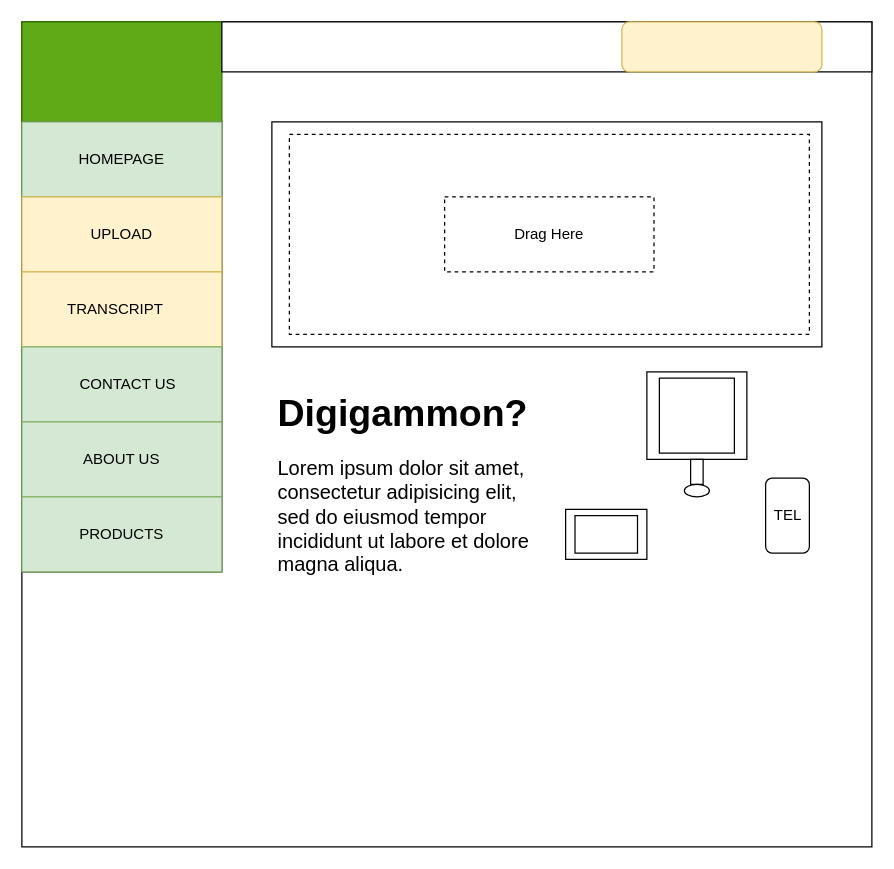
Some shapes in this 894 by 869 pixel diagram are drawn without their labels. The box of each missing label's shape, as (x1, y1, x2, y2) in pixels:
LOGO: (21, 21, 222, 122)
PC: (658, 377, 734, 453)
REGISTER / LOGIN: (621, 21, 822, 72)
TAB: (574, 514, 638, 553)
